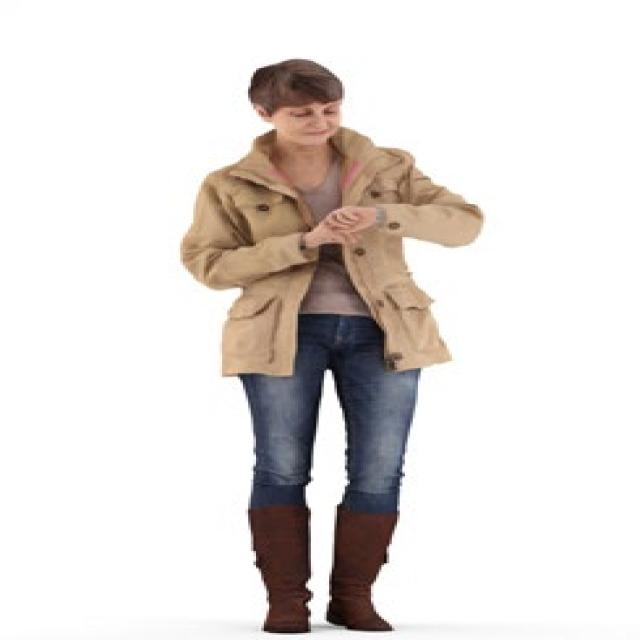standing: (175, 55, 492, 637)
